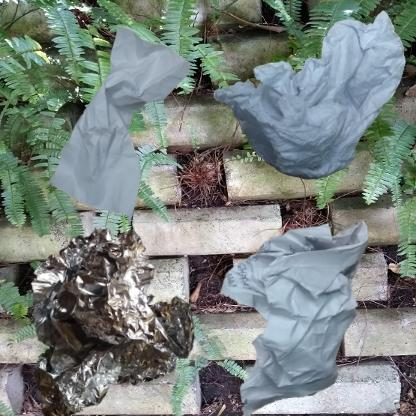aluminio: (10, 213, 215, 416)
papel: (10, 10, 244, 259), (213, 213, 390, 416), (213, 10, 406, 180)
